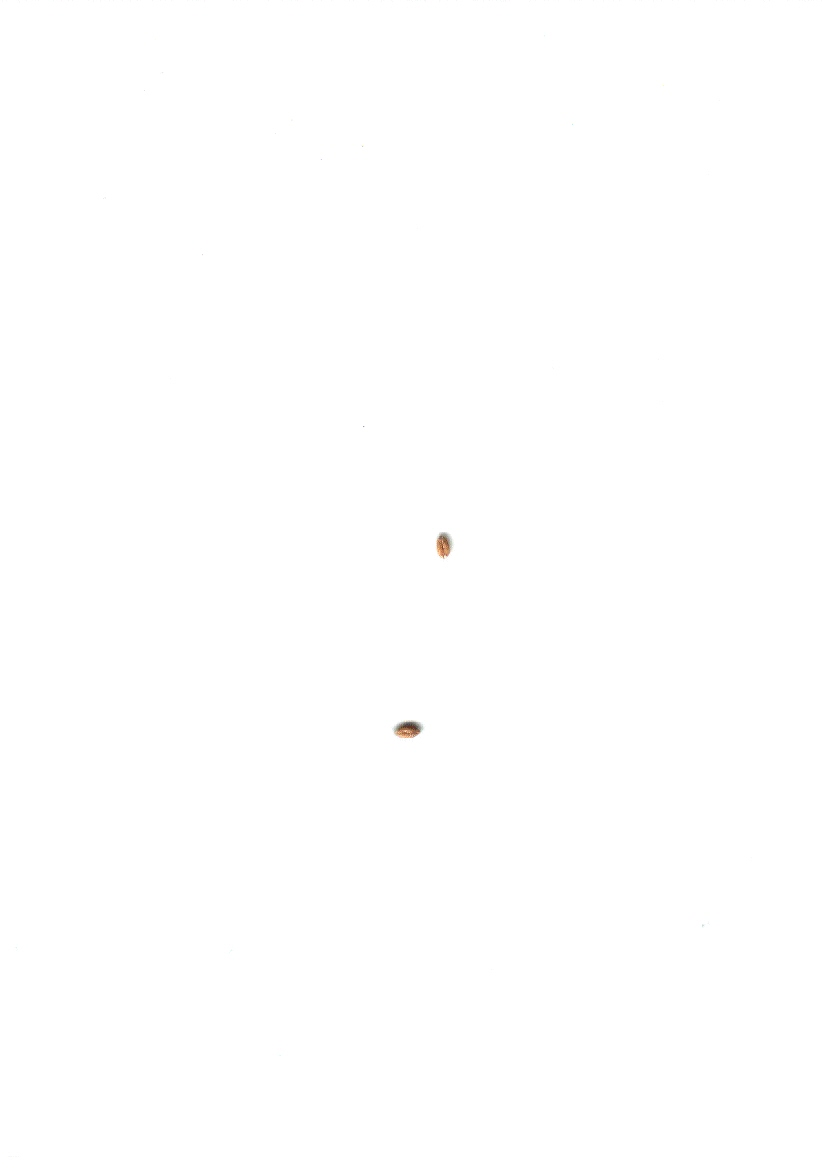grains: (386, 710, 432, 751), (425, 524, 464, 569)
